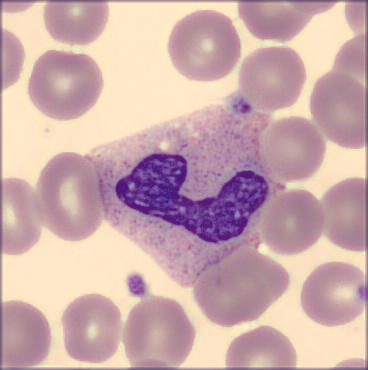WBC: (87, 92, 282, 284)
